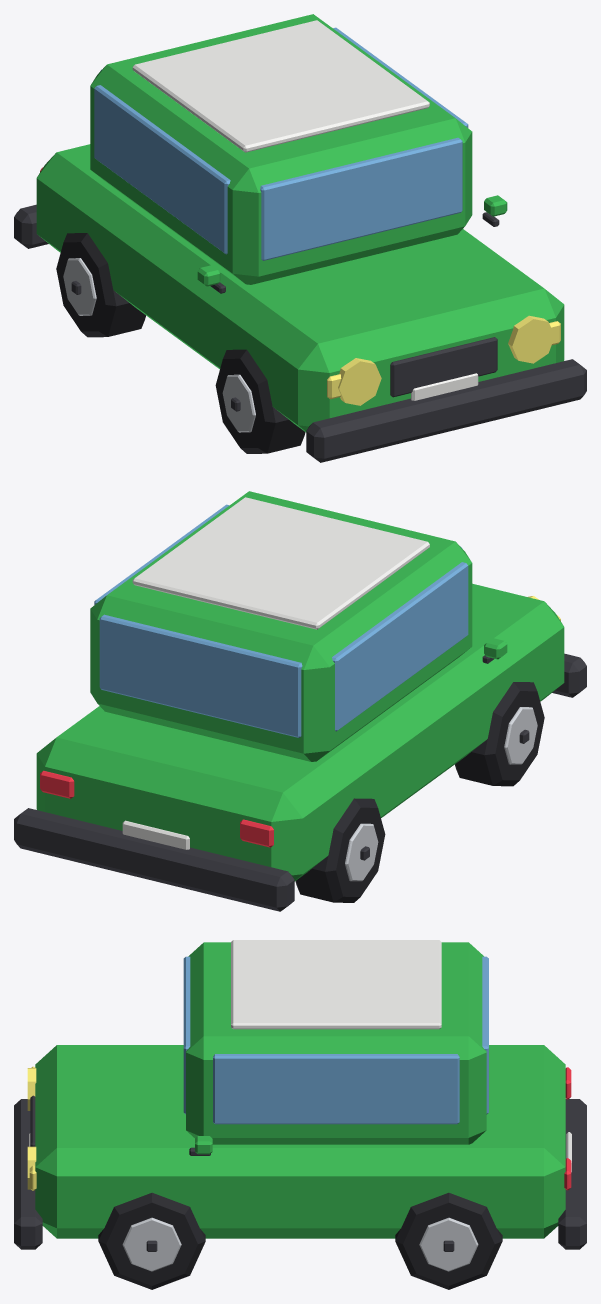
Rendered from GreenCompactCar.fbx.
The picture shows the model from 3 angles, top to bottom: view 1: azimuth 30°, elevation 25°; view 2: azimuth 150°, elevation 25°; view 3: azimuth 270°, elevation 25°; orthographic projection. The views are drawn at different scales.
Visible parts, largest first — view 1: GreenCompactCar, GreenCompactCar_WheelFR, GreenCompactCar_WheelBR; view 2: GreenCompactCar, GreenCompactCar_WheelBR, GreenCompactCar_WheelFR; view 3: GreenCompactCar, GreenCompactCar_WheelBL, GreenCompactCar_WheelFL.
Part boxes in pixels (x1,y1,x2,y2): GreenCompactCar: (14,14,586,462); GreenCompactCar_WheelFR: (215,349,305,453); GreenCompactCar_WheelBR: (56,233,145,337); GreenCompactCar: (14,491,586,911); GreenCompactCar_WheelBR: (295,798,385,902); GreenCompactCar_WheelFR: (455,682,544,786); GreenCompactCar: (14,940,586,1249); GreenCompactCar_WheelBL: (395,1192,502,1289); GreenCompactCar_WheelFL: (98,1192,205,1289).
Size of the model in its own units: 4.55 by 3.82 by 8.
1 material, 1 textured.
